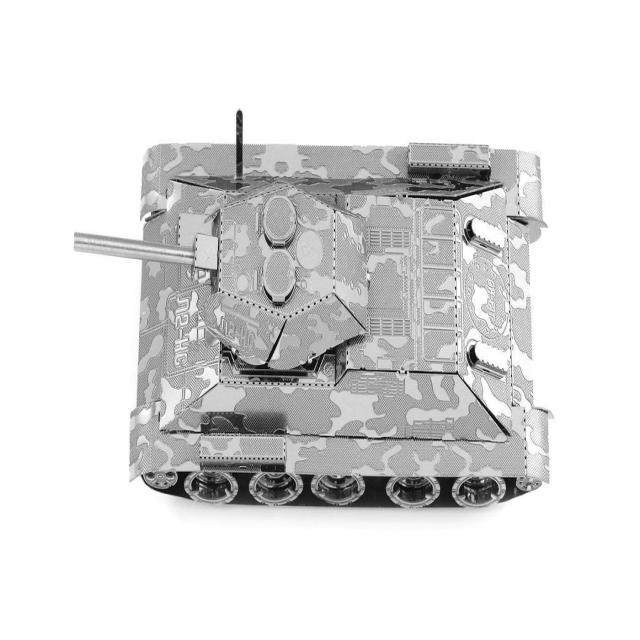Tanks: (128, 125, 555, 532)
